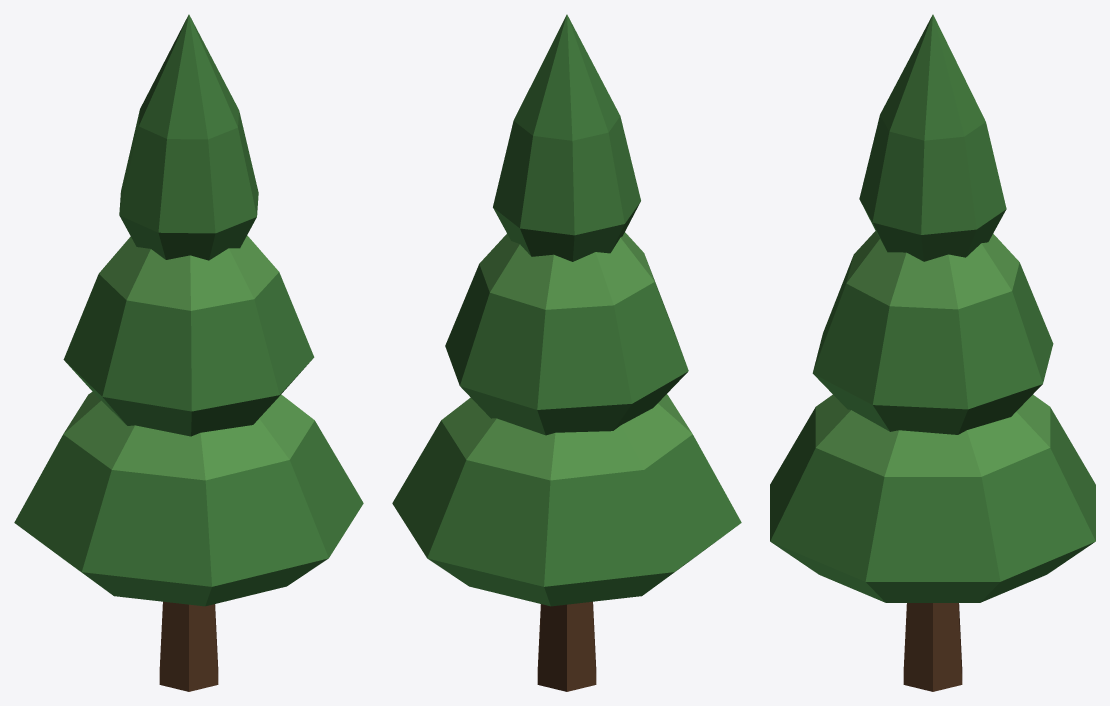
Rendered from tree_pineRoundD.glb.
3 views of the same model, side by side, from view 1: azimuth 30°, elevation 25°; view 2: azimuth 150°, elevation 25°; view 3: azimuth 270°, elevation 25° (orthographic).
Parts seen in each view (by area): view 1: tree_pineRoundD; view 2: tree_pineRoundD; view 3: tree_pineRoundD.
Boxes of the visible parts, x1=… form: tree_pineRoundD: x1=14, y1=14, x2=363, y2=691; tree_pineRoundD: x1=392, y1=14, x2=741, y2=691; tree_pineRoundD: x1=770, y1=14, x2=1095, y2=691.
Bounding box in the file's own units: 0.4805 × 1.08 × 0.4805.
Materials: 1 (1 with a texture image).
